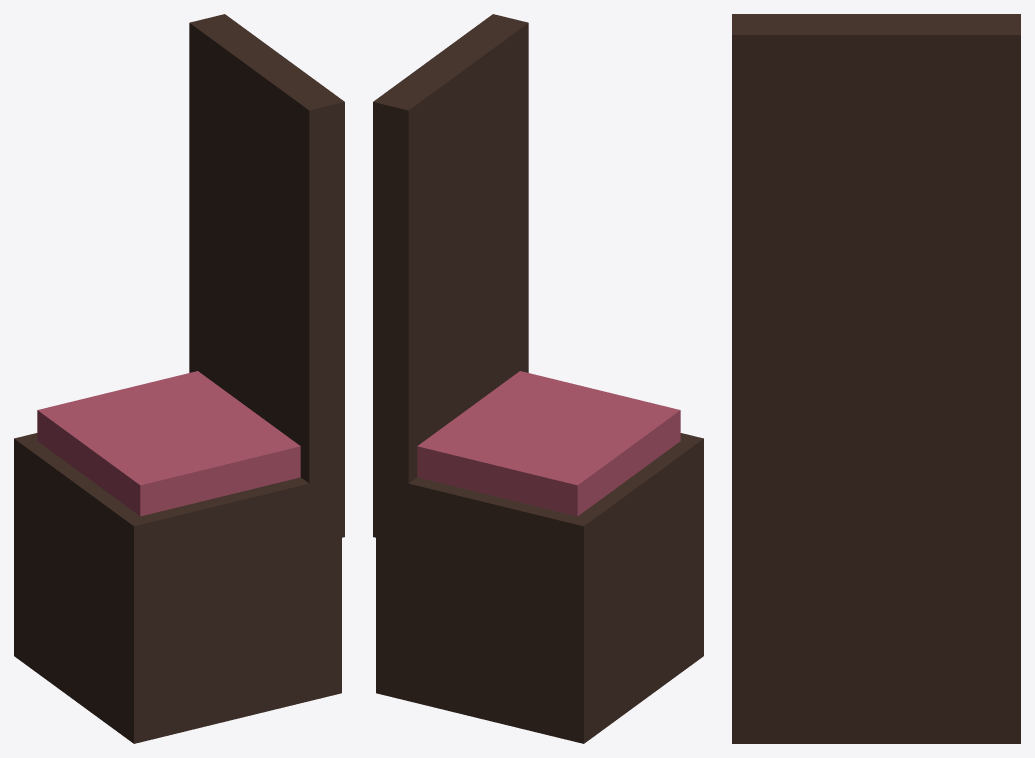
Rendered from trono.glb.
The picture shows the model from 3 angles, left to right: view 1: azimuth 30°, elevation 25°; view 2: azimuth 150°, elevation 25°; view 3: azimuth 270°, elevation 25°; orthographic projection. The views are drawn at different scales.
Parts seen in each view (by area): view 1: Malha_0; view 2: Malha_0; view 3: Malha_0.
Part boxes in pixels (x1,y1,x2,y2): Malha_0: [14, 14, 344, 743]; Malha_0: [373, 14, 703, 743]; Malha_0: [732, 14, 1020, 743].
Bounding box in the file's own units: 0.71 × 1.9 × 0.7.
